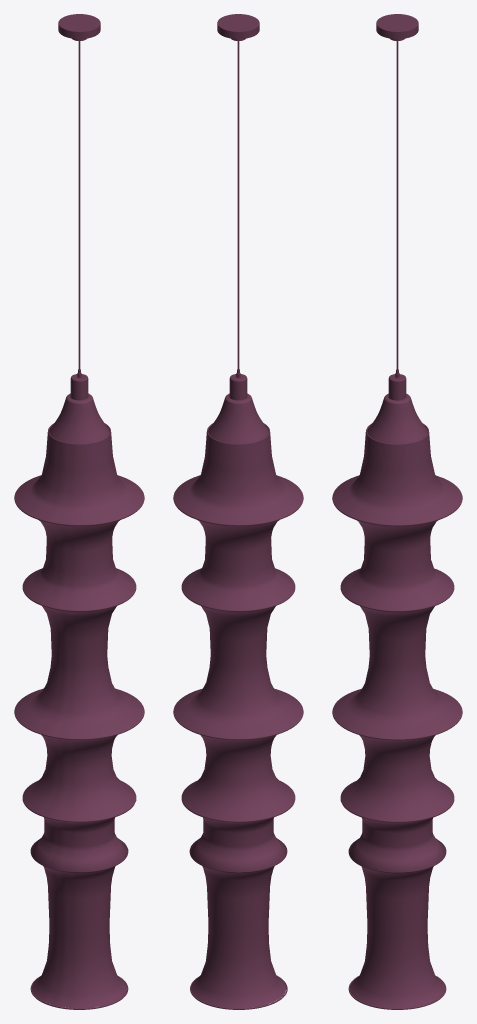
The model's file is Lamp1.fbx.
3 renders of one model, left to right at view 1: azimuth 90°, elevation 25°; view 2: azimuth 150°, elevation 25°; view 3: azimuth 270°, elevation 25°, orthographic.
Visible parts, largest first — view 1: OBJ_MTL1:elledecor_beinspiration_00; view 2: OBJ_MTL1:elledecor_beinspiration_00; view 3: OBJ_MTL1:elledecor_beinspiration_00.
Boxes of the visible parts, left/top/right/bottom form: OBJ_MTL1:elledecor_beinspiration_00: left=14, top=14, right=144, bottom=1009; OBJ_MTL1:elledecor_beinspiration_00: left=173, top=14, right=303, bottom=1009; OBJ_MTL1:elledecor_beinspiration_00: left=332, top=14, right=462, bottom=1009.
Bounding box in the file's own units: 18.43 × 151 × 18.43.
